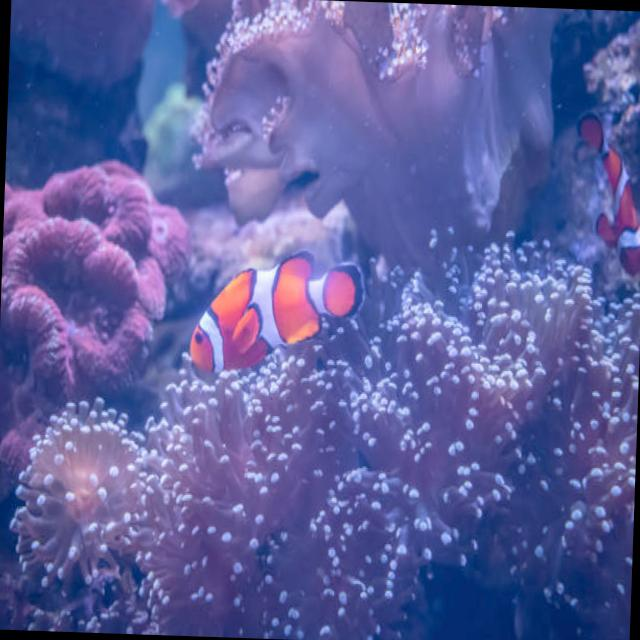ClownFish: (189, 245, 367, 384), (571, 109, 640, 284)
